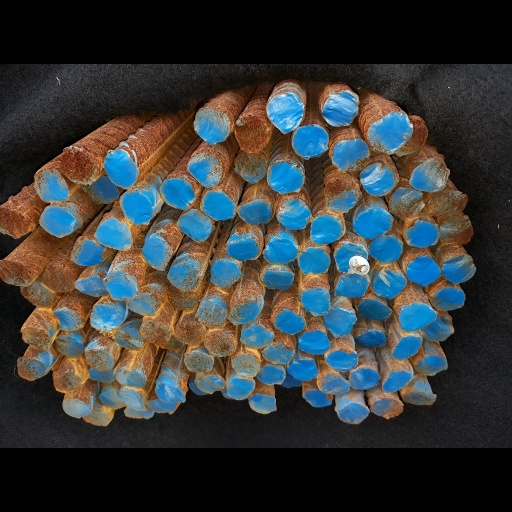dipstick: (367, 112, 412, 155), (60, 145, 102, 185), (267, 94, 304, 134), (193, 107, 231, 144), (321, 90, 359, 126), (103, 150, 138, 189), (409, 157, 448, 191), (353, 206, 393, 239), (268, 158, 305, 193), (396, 116, 428, 156), (187, 152, 223, 187), (177, 209, 213, 243), (235, 116, 268, 153), (359, 163, 394, 197), (291, 125, 328, 157), (159, 178, 196, 210), (33, 170, 70, 202), (404, 256, 442, 287), (424, 190, 468, 216), (323, 178, 357, 211), (119, 190, 153, 223), (389, 186, 424, 218), (276, 197, 311, 229), (333, 139, 369, 170), (84, 174, 120, 205), (37, 207, 75, 236), (398, 302, 437, 330), (438, 214, 474, 244), (199, 191, 237, 219), (442, 254, 476, 285), (233, 151, 266, 182), (372, 268, 407, 297), (209, 259, 242, 289), (41, 264, 75, 293), (368, 235, 403, 263), (403, 219, 438, 247), (103, 272, 138, 300), (20, 282, 56, 309), (90, 302, 121, 333), (335, 242, 367, 272), (402, 378, 436, 406), (235, 198, 271, 224), (0, 258, 31, 288), (310, 215, 343, 243), (204, 328, 237, 356), (0, 208, 28, 241), (263, 238, 298, 264), (272, 308, 307, 334), (424, 314, 454, 344), (325, 308, 355, 338), (298, 247, 330, 275), (195, 300, 227, 328), (166, 262, 198, 290), (70, 239, 103, 266), (430, 287, 467, 311), (334, 272, 369, 297), (301, 288, 331, 317), (227, 234, 259, 260), (258, 266, 294, 289), (318, 370, 351, 395), (138, 320, 171, 345), (347, 366, 381, 390), (174, 319, 205, 345), (73, 274, 106, 298), (324, 347, 358, 370), (239, 324, 273, 347), (392, 335, 422, 361), (21, 324, 51, 350), (299, 330, 330, 355), (416, 352, 448, 376), (356, 298, 392, 319), (228, 299, 259, 323), (337, 401, 369, 424), (262, 341, 294, 364), (168, 284, 196, 310), (154, 382, 187, 404), (60, 396, 93, 418), (382, 368, 412, 392), (184, 350, 215, 373), (52, 307, 81, 331), (370, 397, 403, 418), (84, 347, 114, 370), (119, 386, 145, 412), (287, 358, 316, 381), (227, 377, 256, 400), (247, 392, 277, 414), (255, 363, 286, 384), (231, 353, 259, 376), (15, 357, 43, 380), (80, 405, 110, 426), (115, 327, 143, 349), (355, 330, 387, 349), (55, 337, 83, 358), (196, 375, 225, 395), (52, 371, 78, 392), (86, 367, 118, 384), (128, 298, 155, 317), (114, 369, 146, 385), (98, 389, 124, 408), (146, 397, 176, 413), (304, 389, 332, 406), (279, 372, 302, 389), (124, 406, 154, 419), (188, 378, 207, 397)
